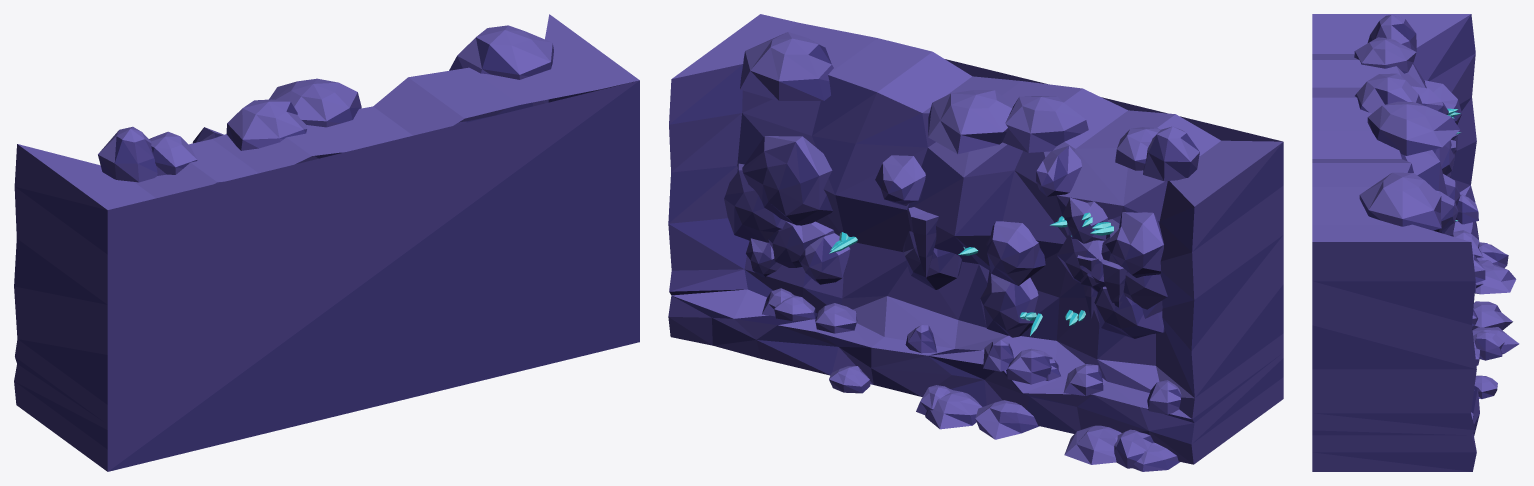
Rendered from Mine_Perimeter_Wall_C.obj.
3 renders of one model, left to right at view 1: azimuth 30°, elevation 25°; view 2: azimuth 150°, elevation 25°; view 3: azimuth 270°, elevation 25°, orthographic. The views are drawn at different scales.
Parts seen in each view (by area): view 1: Mine_Perimeter_Wall_C; view 2: Mine_Perimeter_Wall_C; view 3: Mine_Perimeter_Wall_C.
Part boxes in pixels (box(x1,y1,x2,y2)): Mine_Perimeter_Wall_C: box(14, 14, 639, 471); Mine_Perimeter_Wall_C: box(668, 14, 1283, 471); Mine_Perimeter_Wall_C: box(1312, 14, 1519, 471).
Bounding box in the file's own units: 20 × 10.65 × 7.69.
